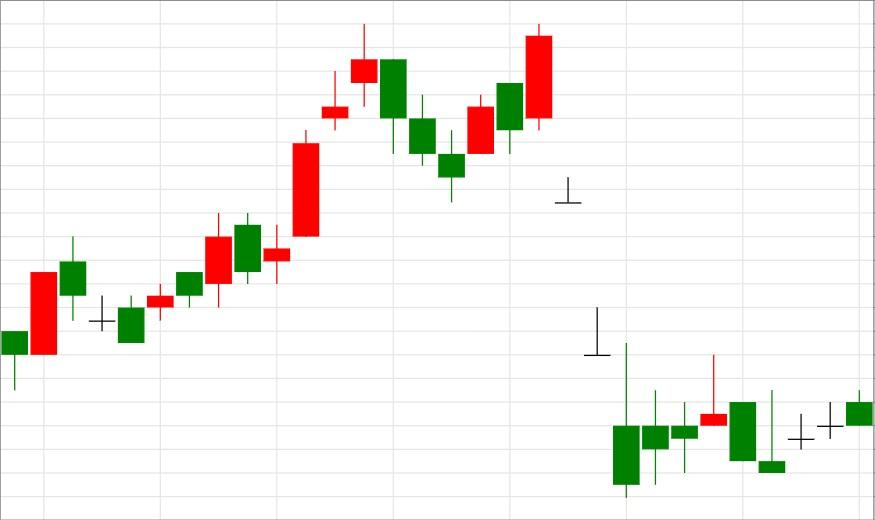three_black_crows_fall: (118, 23, 465, 344)
